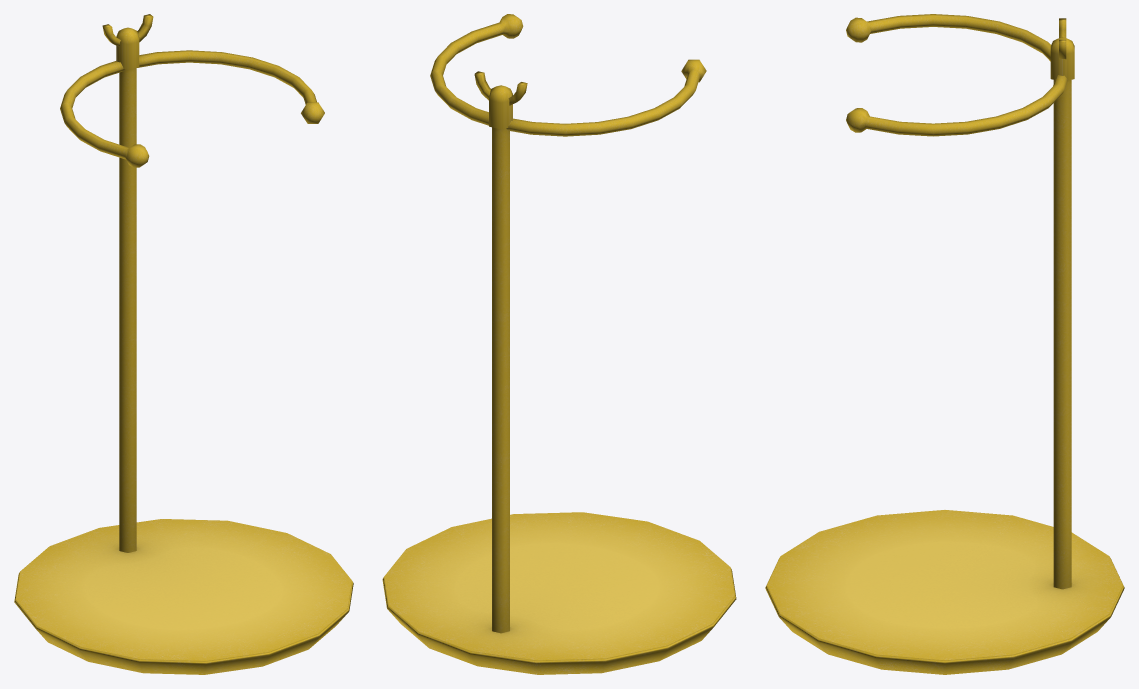
File: FlowerCase.fbx
3 renders of one model, left to right at view 1: azimuth 30°, elevation 25°; view 2: azimuth 150°, elevation 25°; view 3: azimuth 270°, elevation 25°, orthographic. The views are drawn at different scales.
Parts seen in each view (by area): view 1: FlowerCase; view 2: FlowerCase; view 3: FlowerCase.
Part boxes in pixels (left/top/right/bottom): FlowerCase: left=14, top=14, right=353, bottom=674; FlowerCase: left=382, top=14, right=736, bottom=674; FlowerCase: left=765, top=14, right=1124, bottom=674.
Bounding box in the file's own units: 1.63 × 2.88 × 1.63.
1 material, 1 textured.
